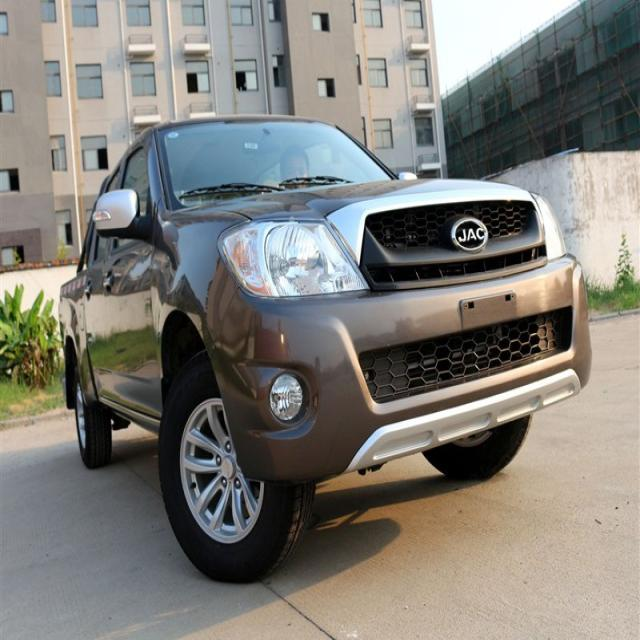front_bumper: (186, 247, 596, 484)
front_glass: (159, 121, 396, 209)
front_left_side_light: (530, 188, 570, 268)
front_right_side_door: (102, 124, 170, 422)
front_right_side_light: (215, 214, 371, 297)
front_right_side_mirror: (91, 183, 160, 239)
wheel: (159, 349, 315, 582), (419, 410, 536, 480), (70, 350, 118, 473)
